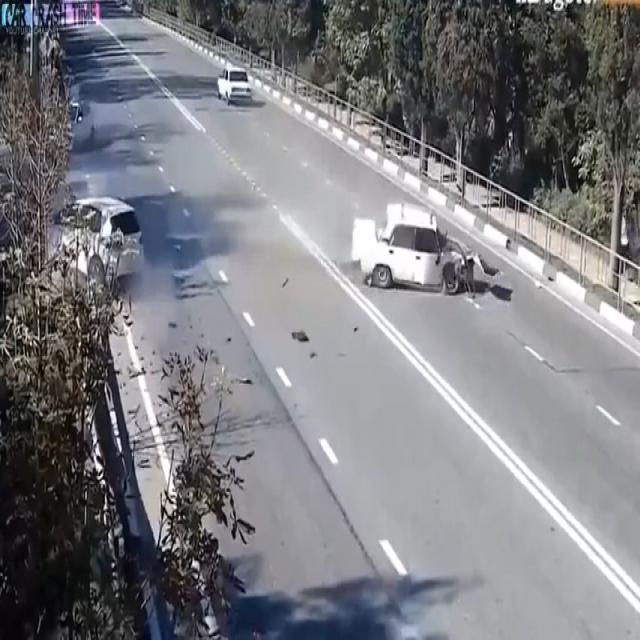Accident: (29, 156, 165, 338), (345, 168, 481, 334)
